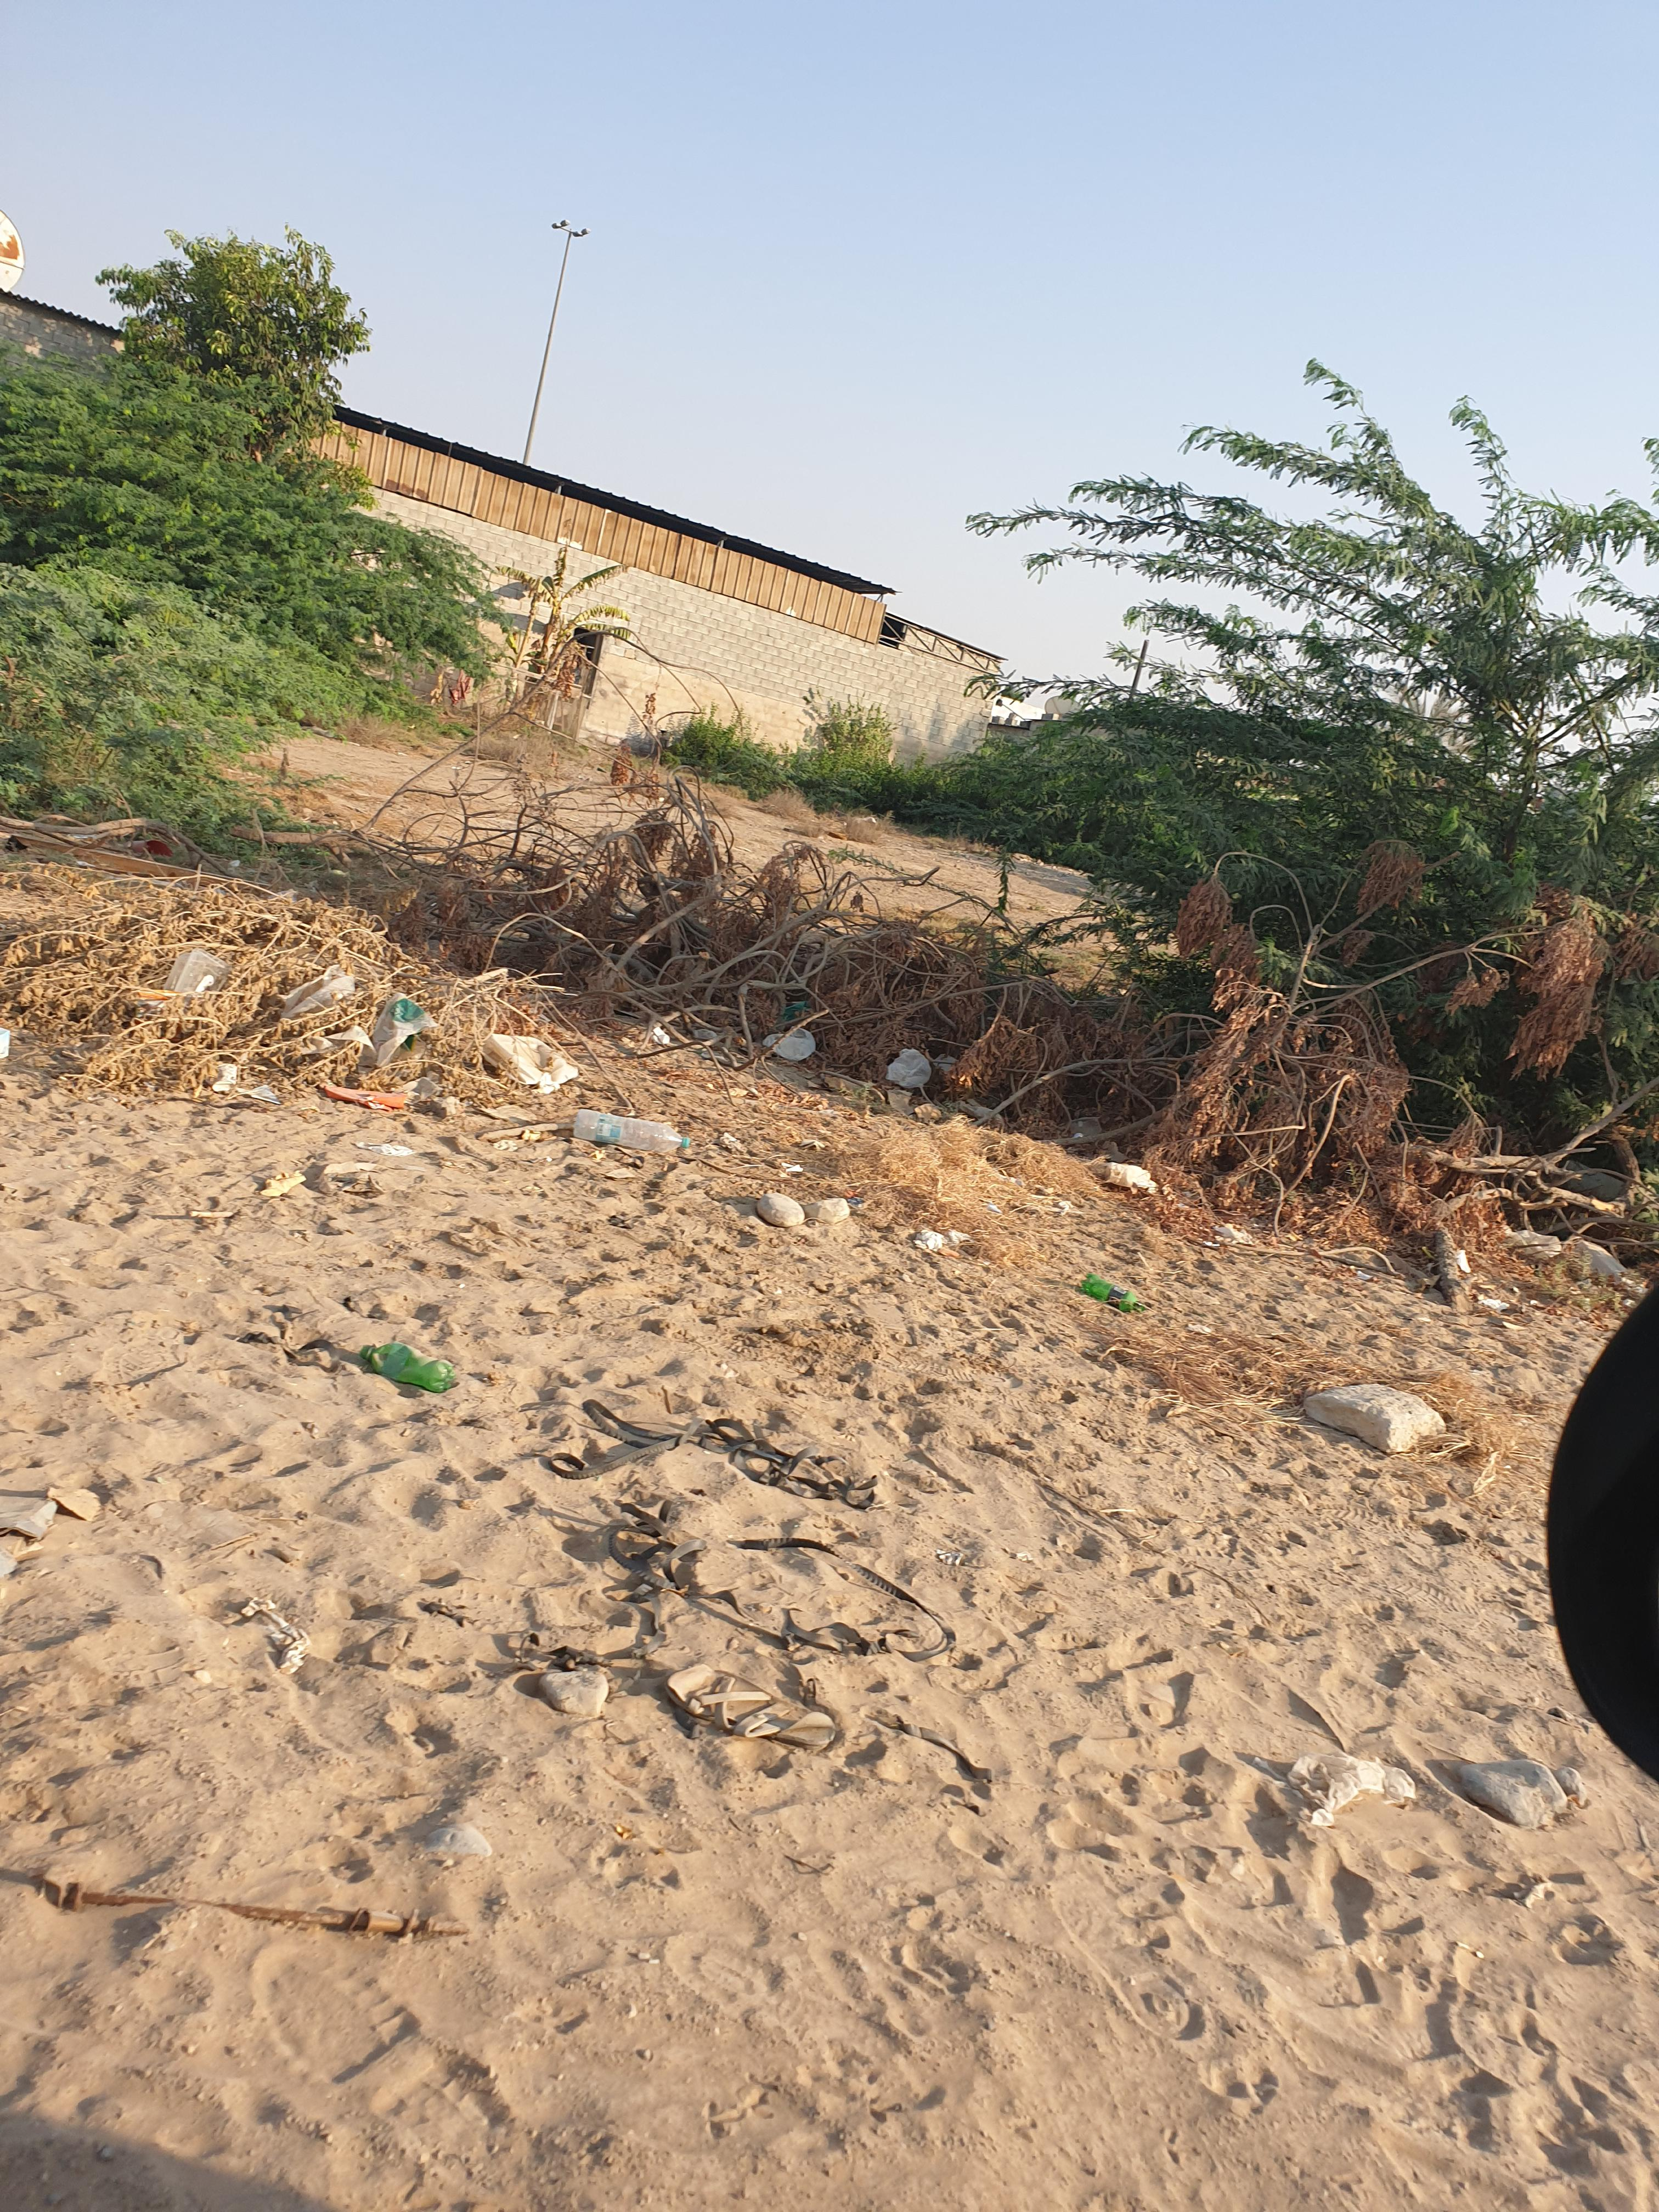fallen_trees: (978, 883, 1462, 1360), (49, 855, 491, 1144), (446, 779, 868, 1080), (763, 862, 1114, 1151)
